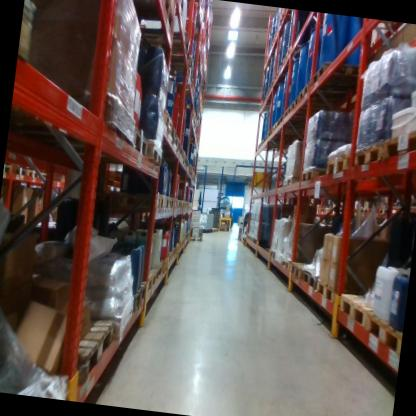pallet: (23, 83, 144, 152), (39, 307, 123, 390), (337, 288, 397, 334), (100, 185, 166, 220), (363, 308, 403, 363), (309, 57, 364, 97), (96, 272, 148, 313), (123, 0, 182, 36), (381, 118, 416, 175), (294, 78, 351, 113), (351, 134, 389, 178), (138, 29, 189, 60), (103, 293, 135, 341), (289, 94, 345, 120), (313, 276, 352, 308), (137, 256, 164, 299), (127, 120, 154, 163), (126, 264, 157, 297), (298, 163, 331, 191), (324, 150, 355, 179), (277, 110, 316, 131), (271, 120, 312, 139), (284, 104, 323, 123), (153, 100, 174, 135), (161, 54, 195, 75), (145, 139, 168, 170), (301, 267, 322, 290), (292, 257, 312, 281), (284, 44, 307, 64), (278, 9, 299, 30), (279, 56, 296, 78), (281, 253, 297, 275), (279, 172, 295, 194), (374, 202, 392, 219), (177, 139, 188, 164), (268, 246, 282, 264), (156, 263, 168, 284), (160, 195, 174, 212), (188, 232, 204, 245), (364, 204, 379, 217), (272, 68, 285, 83), (170, 121, 177, 144), (160, 254, 170, 270), (166, 249, 174, 269), (174, 133, 182, 153), (269, 81, 280, 93), (273, 30, 284, 42), (358, 203, 367, 215), (251, 235, 259, 246), (324, 205, 332, 215), (211, 226, 219, 234), (318, 207, 325, 216), (247, 233, 253, 242), (241, 238, 245, 246), (245, 232, 248, 239)
